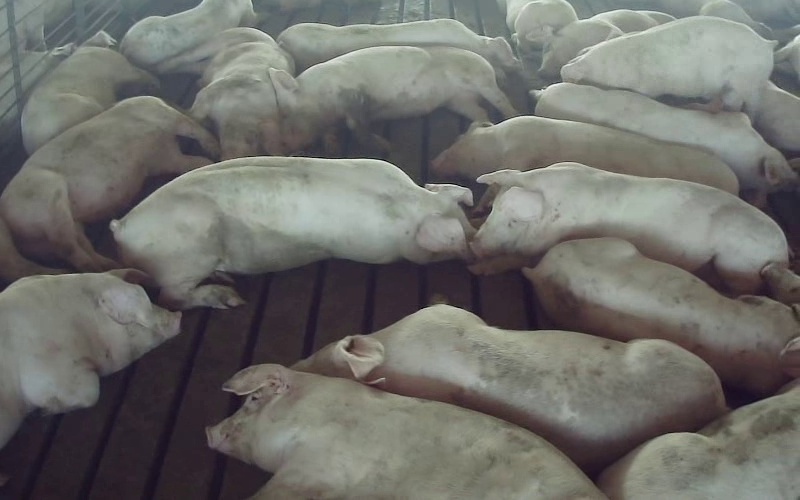pig: (293, 304, 725, 472), (111, 157, 471, 308), (207, 365, 604, 499), (523, 238, 799, 394), (471, 163, 788, 293), (0, 96, 218, 271), (0, 269, 180, 447), (269, 47, 515, 154), (599, 379, 799, 499), (431, 116, 738, 194), (561, 16, 774, 114), (159, 27, 294, 159), (21, 30, 158, 154), (277, 19, 517, 71), (526, 9, 673, 78)
